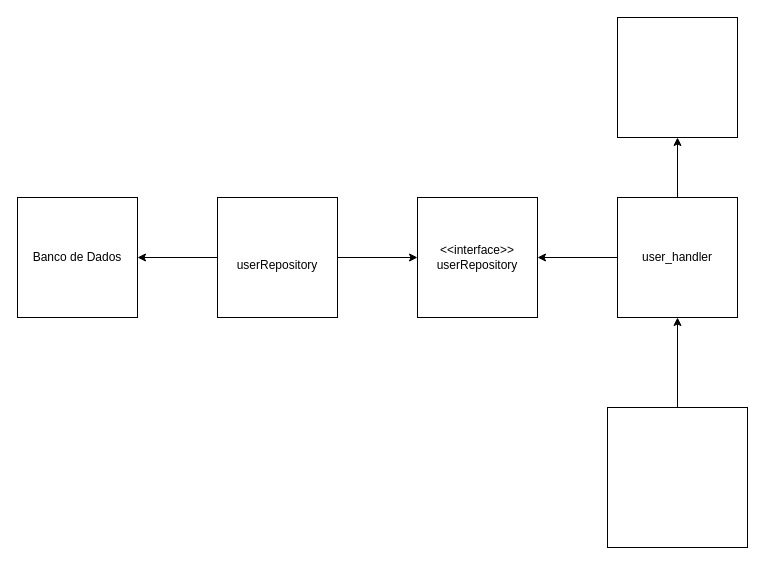
Some shapes in this 765 by 565 pixel diagram are drawn without their labels. The shapes that lost their labels are listed below. From the top down, each one's centre as x and y in pixels, then its label:
the point at 677,77: <<interface>> userHandlerInterface
the point at 677,477: GET - /api/v1/usuario POST - /api/v1/usuario
